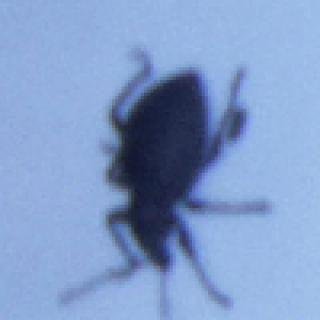bvw: (68, 47, 274, 313)
